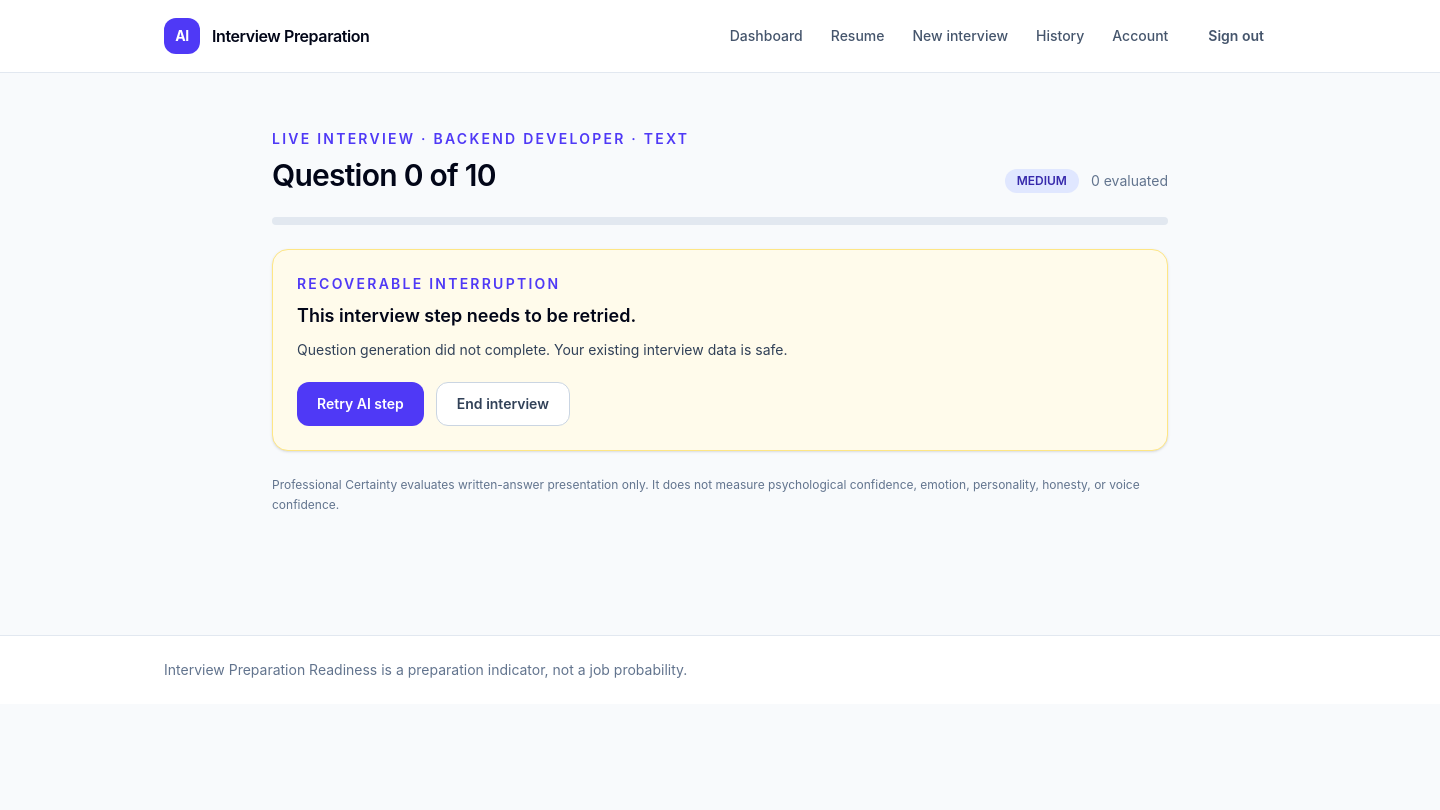
Test: Phase 3 interview pages › recovers an errored AI operation through the retry action
Expected: the heading "This interview step needs to be retried." is shown, left=297, top=305, right=636, bottom=326
Click the button "Retry AI step". click: x=360, y=404
box: left=297, top=382, right=424, bottom=426
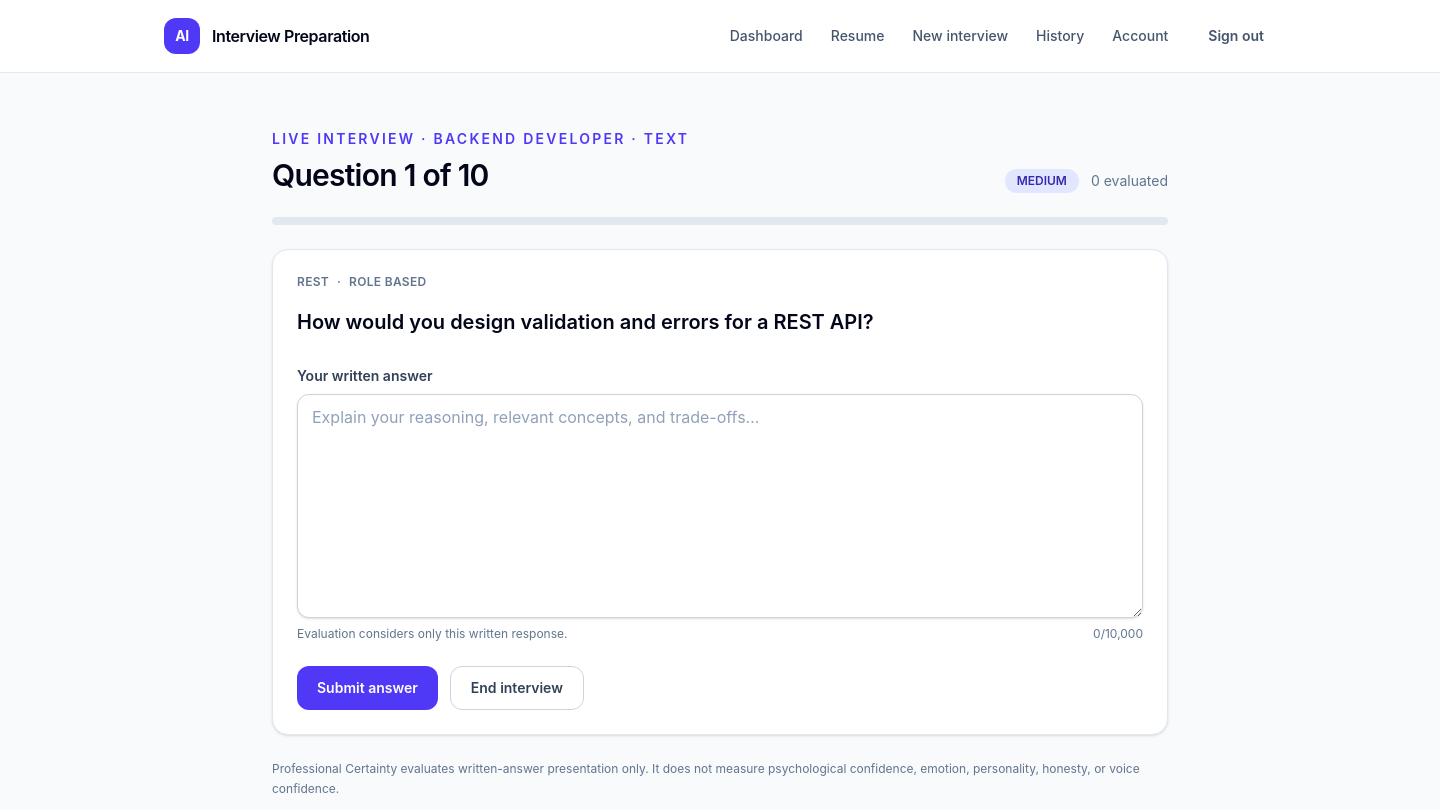
Expected: the heading "How would you design validation and errors for a REST API?" is shown, left=297, top=310, right=874, bottom=334
